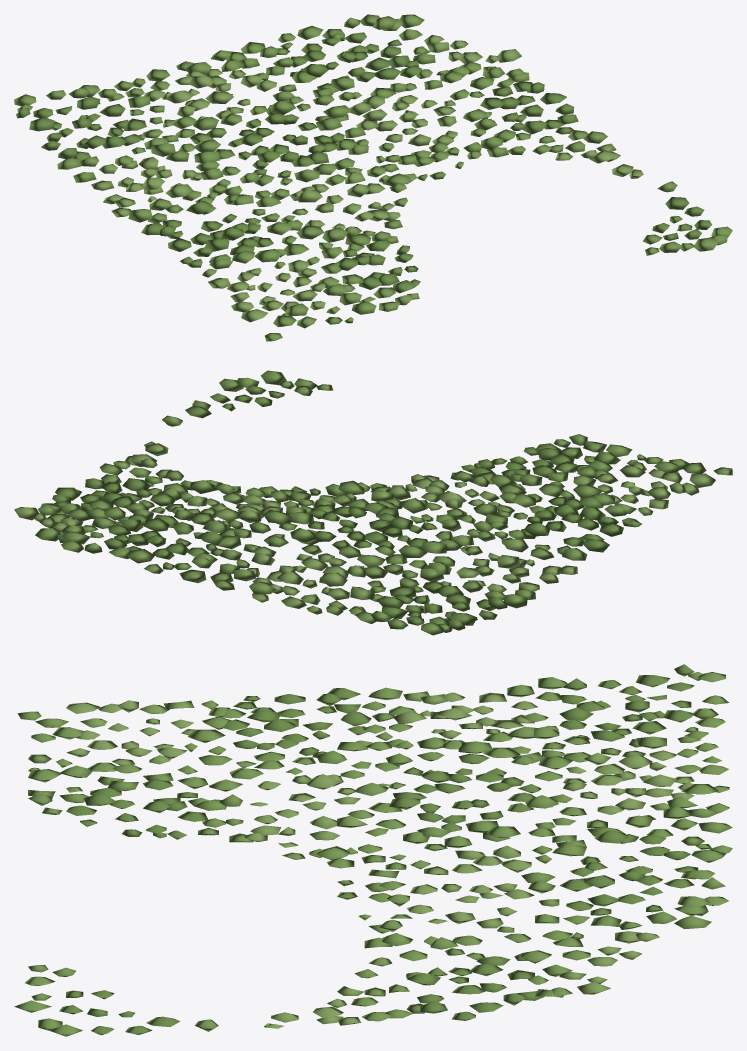
File: canopy-1--2--3.glb
The picture shows the model from 3 angles, top to bottom: view 1: azimuth 30°, elevation 25°; view 2: azimuth 150°, elevation 25°; view 3: azimuth 270°, elevation 25°; orthographic projection. The views are drawn at different scales.
Bounding box in the file's own units: 518 × 67.5 × 518.
1 material, 1 textured.
